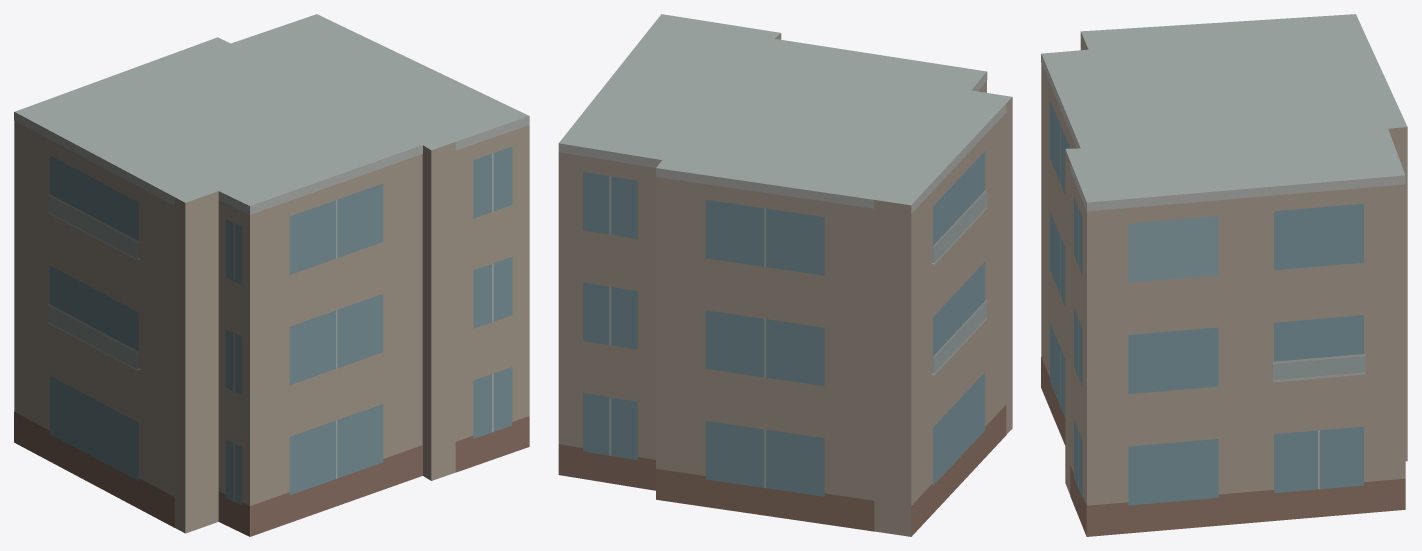
File: survey-upis-32949755.glb
3 renders of one model, left to right at view 1: azimuth 30°, elevation 25°; view 2: azimuth 150°, elevation 25°; view 3: azimuth 270°, elevation 25°, orthographic.
Visible parts, largest first — view 1: survey-upis-32949755.tmp; view 2: survey-upis-32949755.tmp; view 3: survey-upis-32949755.tmp.
Part boxes in pixels (bbox=[...]): survey-upis-32949755.tmp: bbox=[14, 14, 529, 536]; survey-upis-32949755.tmp: bbox=[558, 14, 1012, 536]; survey-upis-32949755.tmp: bbox=[1041, 14, 1407, 536].
Size of the model in its own units: 11.02 by 9.1 by 9.05.
